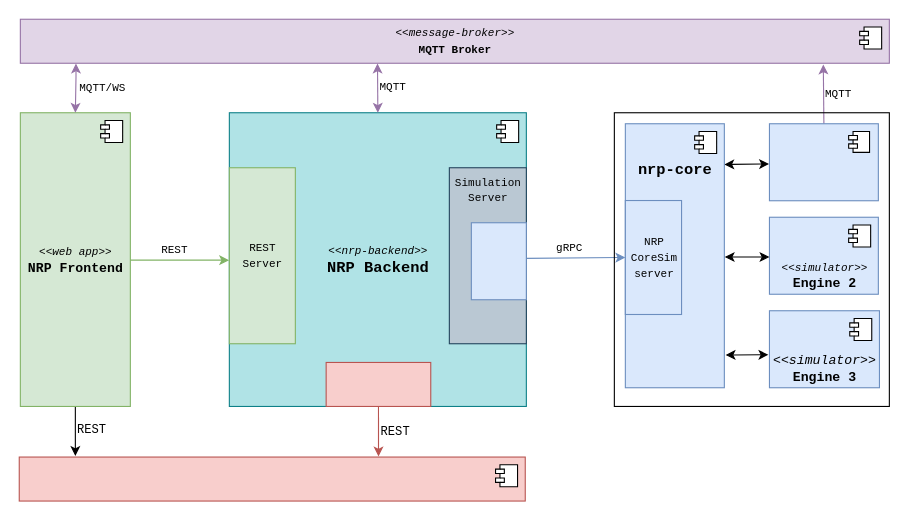
Some shapes in this 909 by 520 pixel diagram are drawn without their labels. Each missing label, with the box of its shape:
<<simulator>> Engine 1: (768, 123, 878, 201)
<<storage server>> NRP Storage Proxy: (18, 456, 525, 501)
nrp-core python client: (470, 222, 526, 300)
Storage client: (325, 361, 431, 406)
